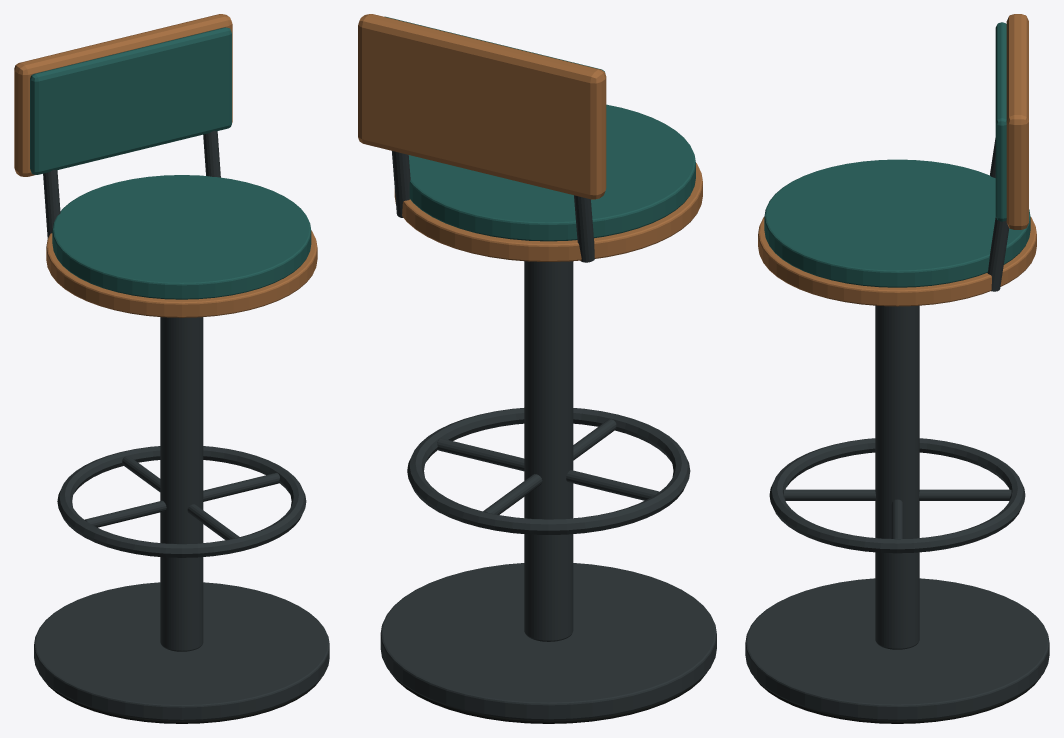
The picture shows the model from 3 angles, left to right: view 1: azimuth 30°, elevation 25°; view 2: azimuth 150°, elevation 25°; view 3: azimuth 270°, elevation 25°; orthographic projection. The views are drawn at different scales.
Visible parts, largest first — view 1: FIXED_Base, SEAT_Cushion, BACK_Cushion, FIXED_Column, FIXED_FootrestRing, SEAT_Shell, BACK_Shell, FIXED_BaseBumper, FIXED_FootrestSpoke_00, FIXED_FootrestSpoke_01, BACK_Support_00, BACK_Support_01 (+2 smaller); view 2: FIXED_Base, BACK_Shell, SEAT_Cushion, FIXED_Column, FIXED_FootrestRing, SEAT_Shell, FIXED_BaseBumper, FIXED_FootrestSpoke_00, FIXED_FootrestSpoke_01, BACK_Support_00, BACK_Support_01, FIXED_FootrestSpoke_02 (+1 smaller); view 3: FIXED_Base, SEAT_Cushion, FIXED_Column, FIXED_FootrestRing, SEAT_Shell, BACK_Shell, BACK_Cushion, FIXED_FootrestSpoke_02, FIXED_FootrestSpoke_03, BACK_Support_01, FIXED_BaseBumper, FIXED_FootrestSpoke_00.
Boxes of the visible parts, box(x1,y1,x2,y2) form: FIXED_Base: box(34, 582, 329, 720); SEAT_Cushion: box(52, 175, 311, 299); BACK_Cushion: box(30, 27, 231, 174); FIXED_Column: box(160, 317, 203, 651); FIXED_FootrestRing: box(57, 446, 306, 557); SEAT_Shell: box(46, 230, 317, 317); BACK_Shell: box(14, 14, 232, 176); FIXED_BaseBumper: box(42, 678, 321, 723); FIXED_FootrestSpoke_00: box(203, 473, 279, 501); FIXED_FootrestSpoke_01: box(84, 500, 166, 527); BACK_Support_00: box(43, 170, 60, 238); BACK_Support_01: box(203, 130, 220, 177); FIXED_Base: box(380, 563, 716, 720); BACK_Shell: box(358, 14, 606, 199); SEAT_Cushion: box(408, 104, 695, 241); FIXED_Column: box(524, 261, 573, 641); FIXED_FootrestRing: box(407, 408, 690, 534); SEAT_Shell: box(394, 163, 702, 261); FIXED_BaseBumper: box(390, 672, 706, 723); FIXED_FootrestSpoke_00: box(437, 438, 524, 471); FIXED_FootrestSpoke_01: box(566, 470, 659, 500); BACK_Support_00: box(574, 195, 594, 262); BACK_Support_01: box(392, 151, 410, 217); FIXED_FootrestSpoke_02: box(483, 474, 542, 514); FIXED_Base: box(745, 578, 1049, 720); SEAT_Cushion: box(764, 159, 1030, 287); FIXED_Column: box(875, 305, 919, 649); FIXED_FootrestRing: box(769, 438, 1025, 553); SEAT_Shell: box(758, 217, 1036, 306); BACK_Shell: box(1006, 14, 1028, 229); BACK_Cushion: box(995, 22, 1006, 221); FIXED_FootrestSpoke_02: box(919, 489, 1011, 500); FIXED_FootrestSpoke_03: box(783, 489, 875, 500); BACK_Support_01: box(987, 217, 1009, 291); FIXED_BaseBumper: box(754, 677, 1040, 723); FIXED_FootrestSpoke_00: box(891, 499, 903, 538).
Size of the model in its own units: 0.48 by 1.04 by 0.48.
